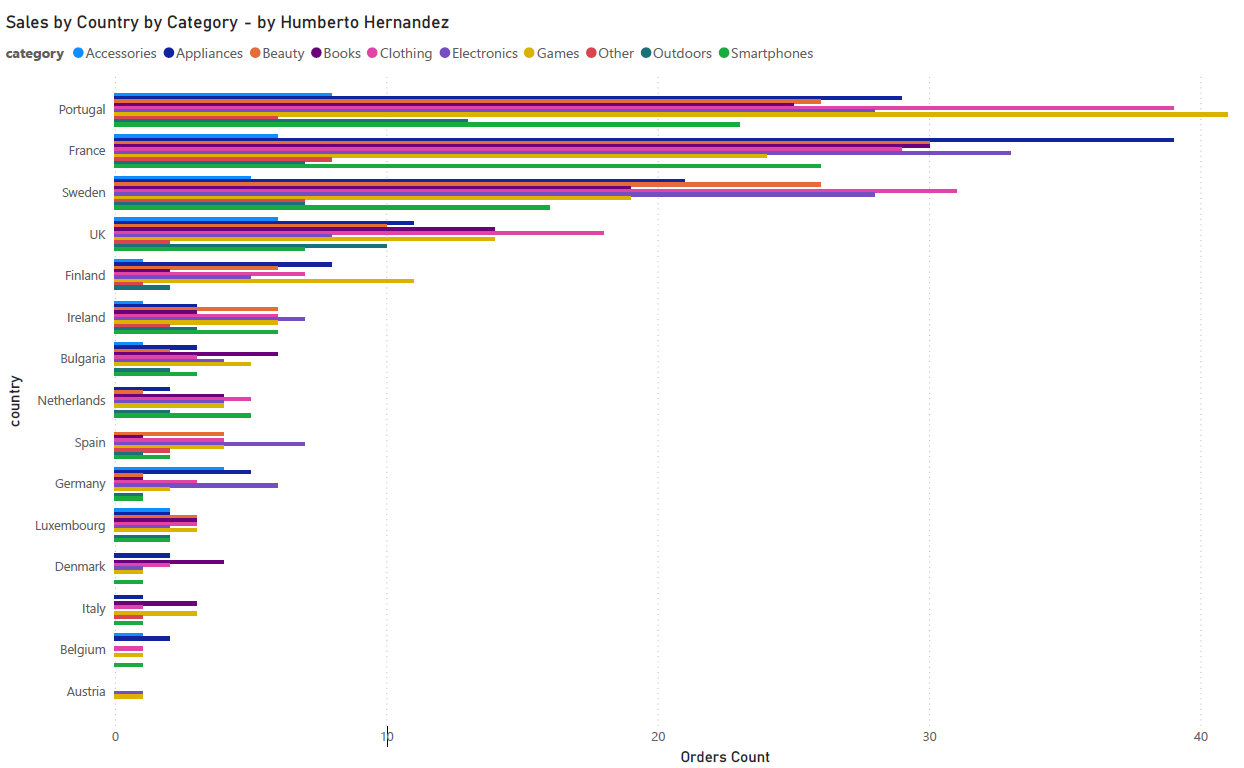

Layout of this report page (visuals, bound fields, positions):
{"tool":"powerbi","page":{"name":"Sales by Country by Category","canvas":[1280,720],"ordinal":0},"visuals":[{"type":"clusteredBarChart","title":"Sales by Country by Category - by Humberto Hernandez ","fields":{"Category":["sales data.country"],"Series":["sales data.category"],"Y":["CountNonNull(sales data.order_value_EUR)"]},"box":[0,0,1280.3,720.2],"z":2}]}

Visuals, with their boxes on the page's 1280x720 design canvas (x1, y1, x2, y2). These are canvas units, not pixel positions in the 1244x768 screenshot, which may show the page scaled, cropped or inside an application window:
"Sales by Country by Category - by Humberto Hernandez " clusteredBarChart: 0/0/1280/720
